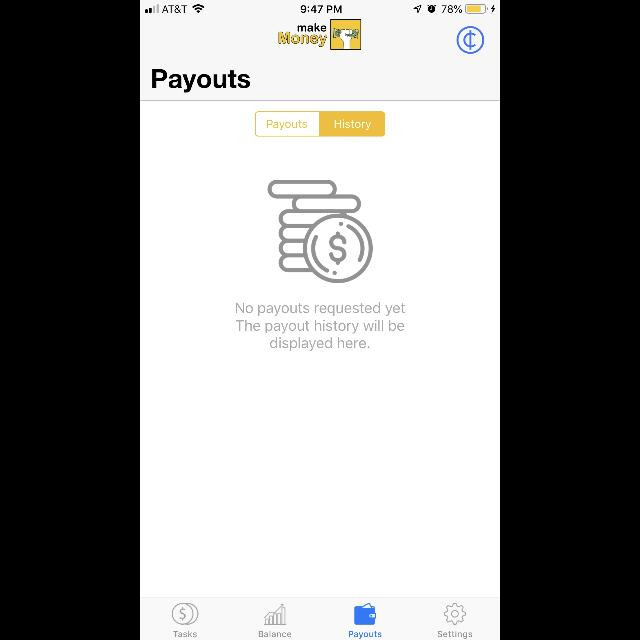icon: (172, 603, 198, 625), (444, 603, 466, 625), (354, 603, 376, 625), (264, 604, 286, 624)
image: (268, 180, 372, 284), (278, 18, 362, 50), (456, 26, 484, 54)
text: (235, 303, 405, 352), (152, 69, 250, 93), (258, 630, 292, 638), (348, 631, 382, 639), (438, 631, 472, 639), (174, 631, 196, 637)
textbutton: (319, 112, 385, 136), (255, 112, 319, 136)
uppertaskbar: (140, 0, 500, 14)
